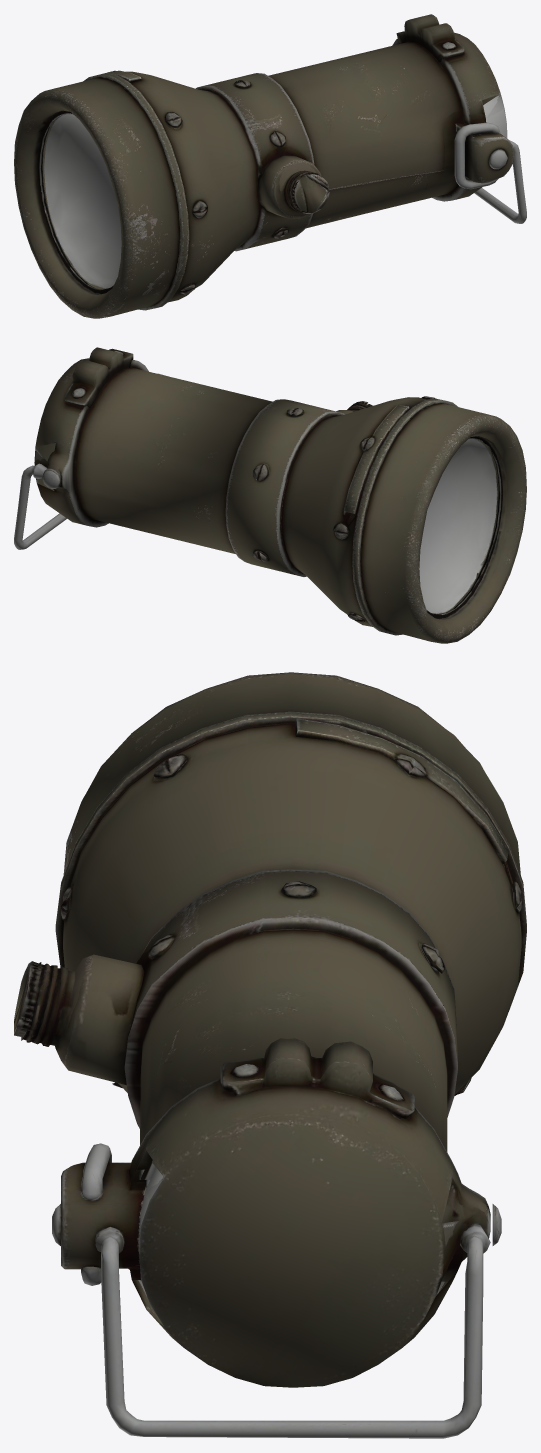
Rendered from selected.glb.
The picture shows the model from 3 angles, top to bottom: view 1: azimuth 30°, elevation 25°; view 2: azimuth 150°, elevation 25°; view 3: azimuth 270°, elevation 25°; orthographic projection. The views are drawn at different scales.
Parts seen in each view (by area): view 1: tripo_node_e82e9ddd-280d-4276-9e46-e9ad036dcaaf; view 2: tripo_node_e82e9ddd-280d-4276-9e46-e9ad036dcaaf; view 3: tripo_node_e82e9ddd-280d-4276-9e46-e9ad036dcaaf.
Boxes of the visible parts, x1,y1,x2,y2 form: tripo_node_e82e9ddd-280d-4276-9e46-e9ad036dcaaf: [14, 14, 526, 318]; tripo_node_e82e9ddd-280d-4276-9e46-e9ad036dcaaf: [14, 347, 526, 643]; tripo_node_e82e9ddd-280d-4276-9e46-e9ad036dcaaf: [14, 672, 526, 1438].
Size of the model in its own units: 0.998 by 0.5098 by 0.5527.
1 material, 1 textured.
